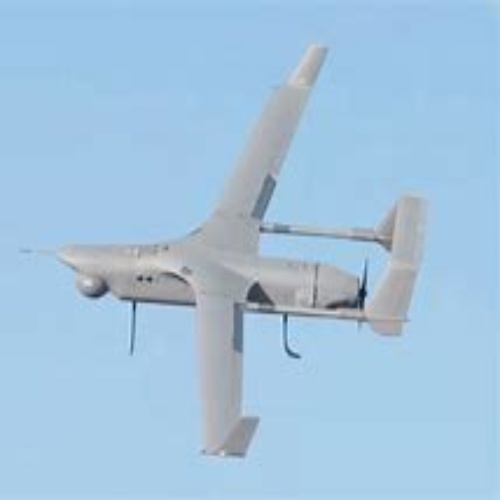uav646: (20, 42, 427, 458)
